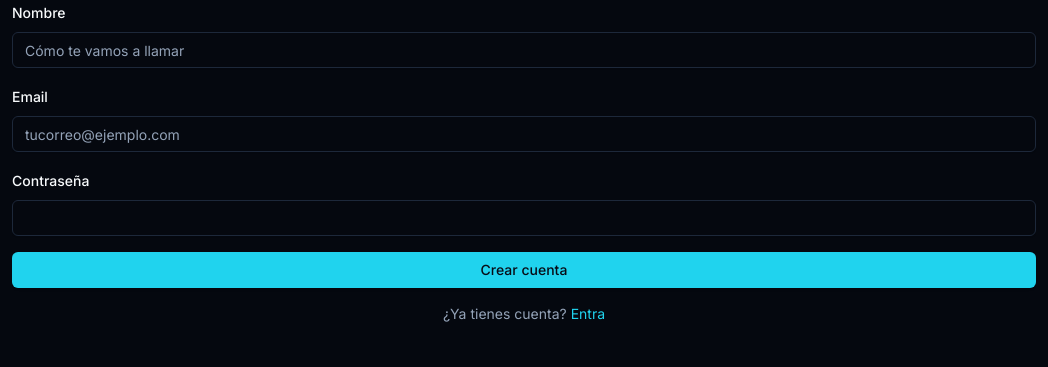
Test: RegisterForm › muestra un error inline si la contraseña tiene menos de 8 caracteres
In the field labelled "Nombre": (524, 50) [12, 32, 1036, 68], type "Void"
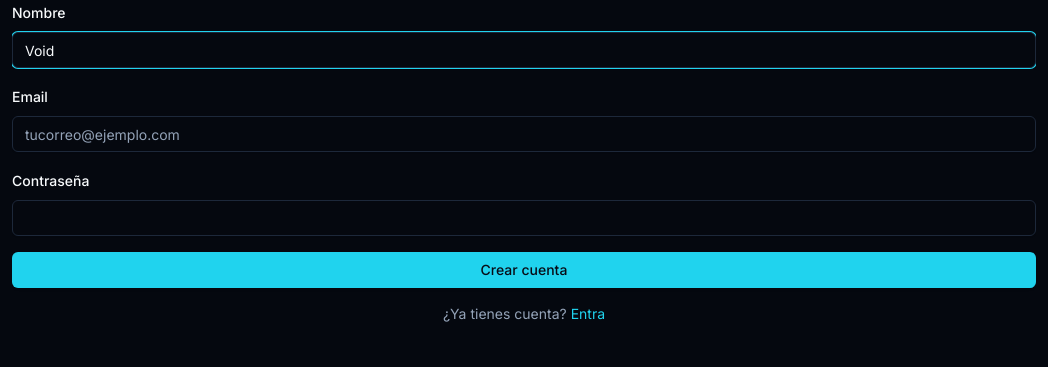
In the field labelled "Email": (524, 134) [12, 116, 1036, 152], type "valido@ejemplo.com"
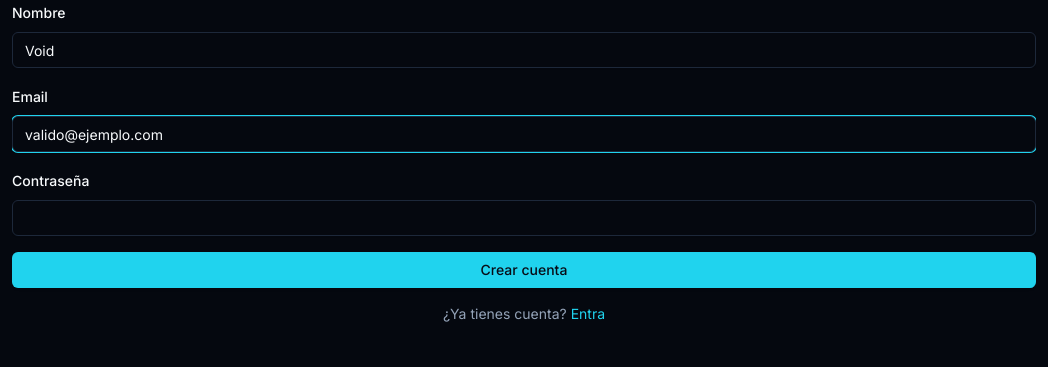
In the password field labelled "Contraseña": (524, 218) [12, 200, 1036, 236], type "corta"
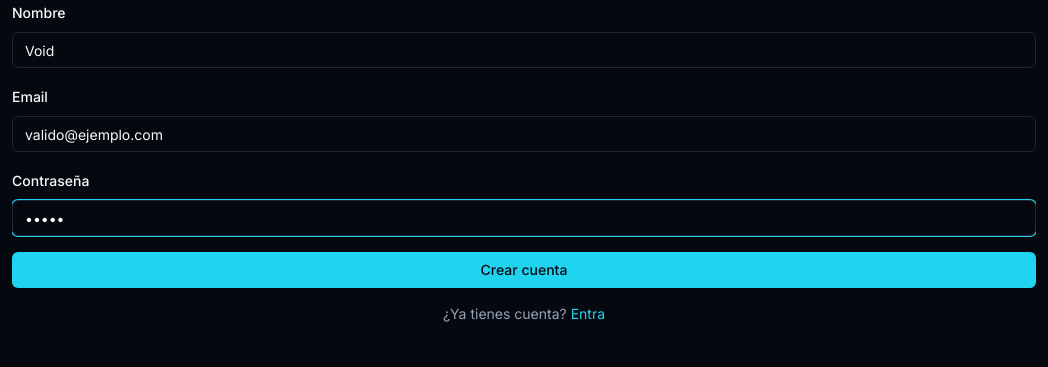
Click the button "Crear cuenta": (524, 270) [12, 252, 1036, 288]
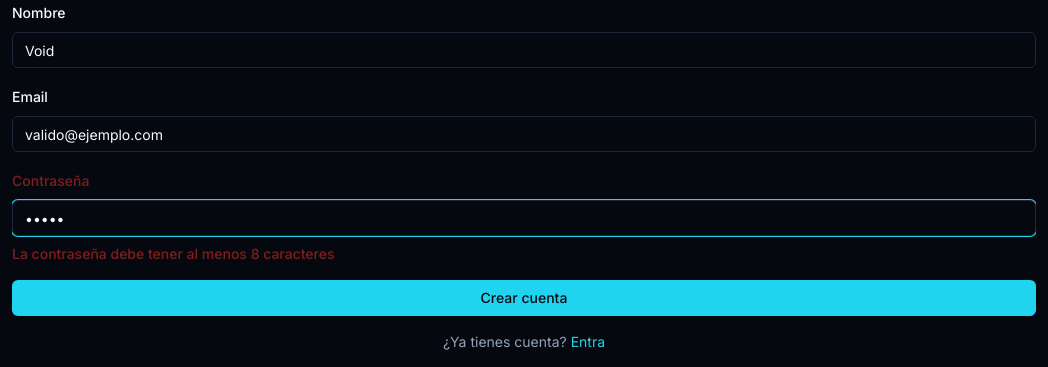
Check: the text "La contraseña debe tener al menos 8 caracteres" is shown, box [12, 245, 334, 262]
